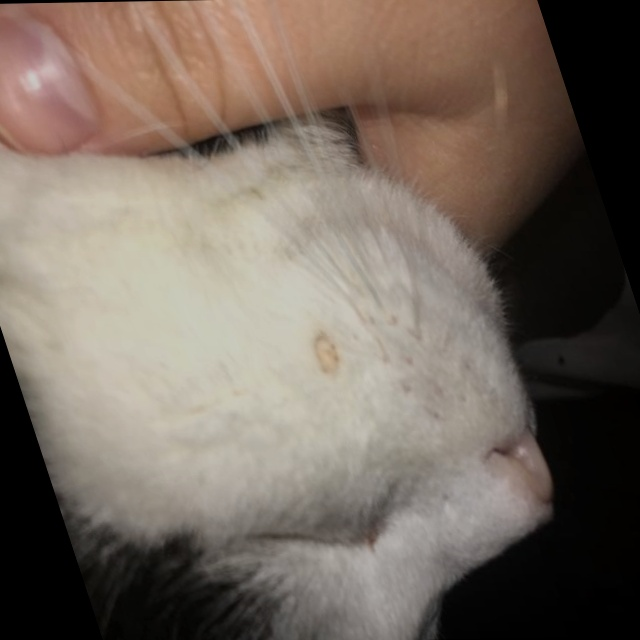lump_and_bump: (308, 335, 343, 375)
